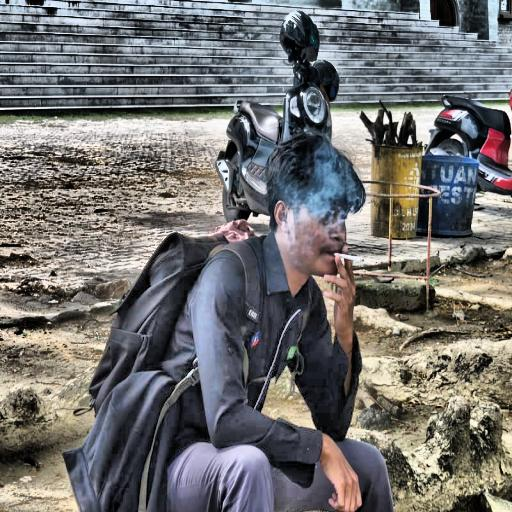Asbak: (335, 253, 364, 262)
Merokok: (166, 134, 393, 512)
